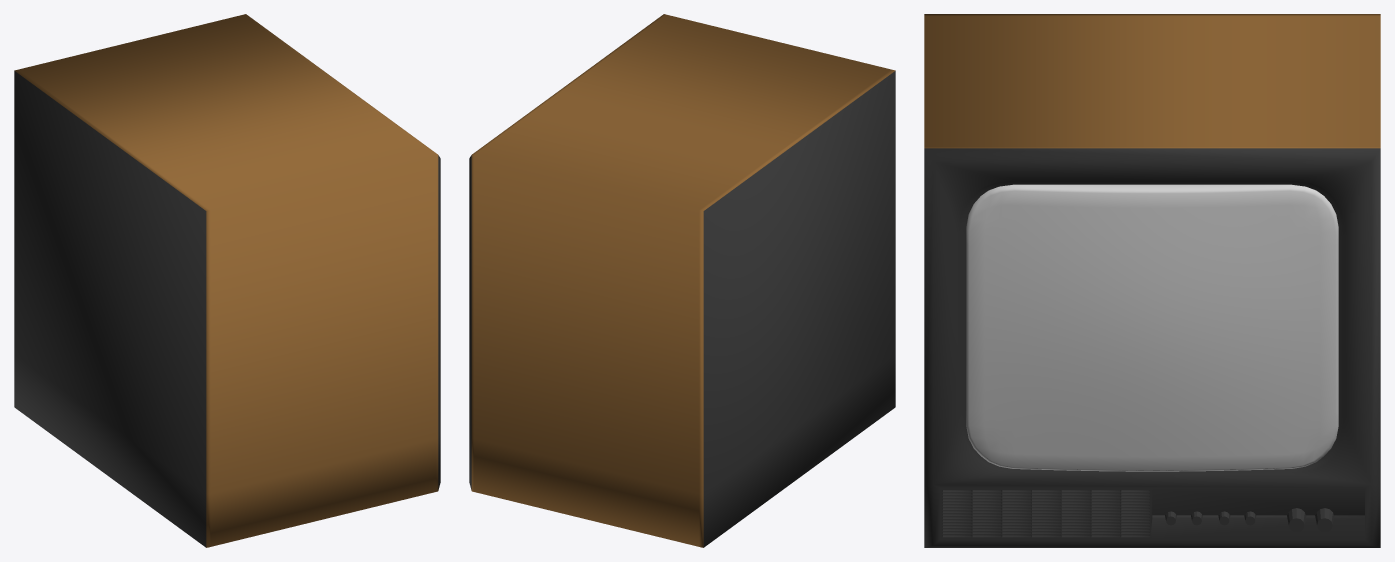
3 renders of one model, left to right at view 1: azimuth 30°, elevation 25°; view 2: azimuth 150°, elevation 25°; view 3: azimuth 270°, elevation 25°, orthographic. The views are drawn at different scales.
Parts seen in each view (by area): view 1: Cube; view 2: Cube; view 3: Cube.
Part boxes in pixels (x1,y1,x2,y2): Cube: (14, 14, 440, 547); Cube: (469, 14, 895, 547); Cube: (924, 14, 1380, 547).
Bounding box in the file's own units: 229 × 289 × 299.
